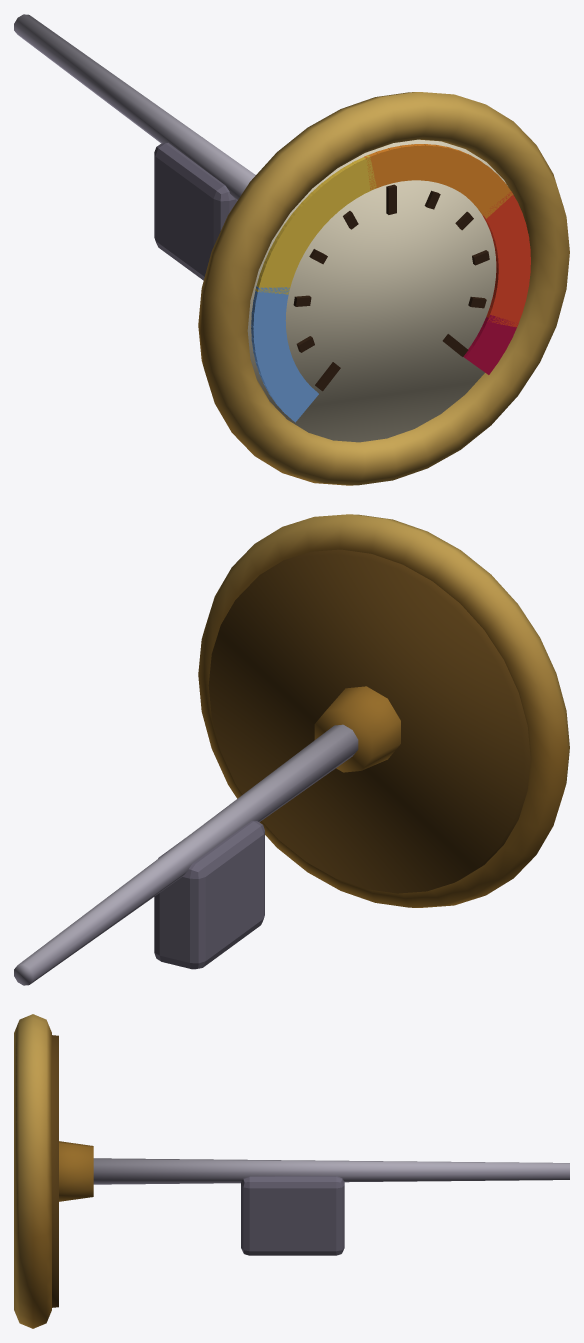
File: thermometer.glb
3 views of the same model, one above another, from view 1: azimuth 30°, elevation 25°; view 2: azimuth 150°, elevation 25°; view 3: azimuth 270°, elevation 25° (orthographic). The views are drawn at different scales.
Parts seen in each view (by area): view 1: thermometer, thermometer_glow; view 2: thermometer; view 3: thermometer.
Boxes of the visible parts, x1,y1,x2,y2 form: thermometer: [14, 14, 569, 485]; thermometer_glow: [463, 315, 517, 374]; thermometer: [14, 514, 569, 985]; thermometer: [14, 1014, 569, 1328].
Bounding box in the file's own units: 0.364 × 0.364 × 0.642.
